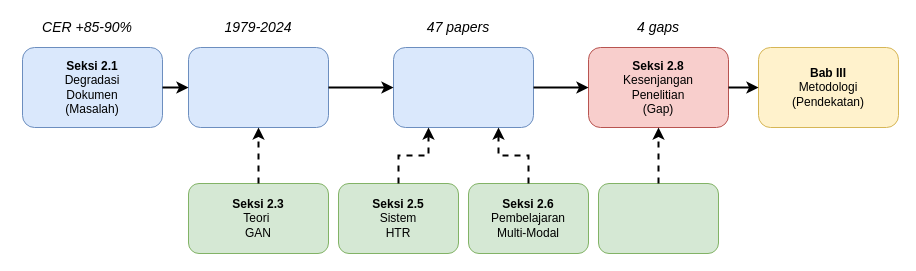
Some shapes in this 916 by 271 pixel diagram are drawn without their labels. The shapes that lost their labels are listed below. From the top down, each one's centre as x and y in pixels, then its label:
At [258,87]: "Seksi 2.2 Evolusi Metode (Solusi)".
At [463,87]: "Seksi 2.4 Analisis SOTA (Saat ini)".
At [658,218]: "Seksi 2.7 Fungsi Loss".
